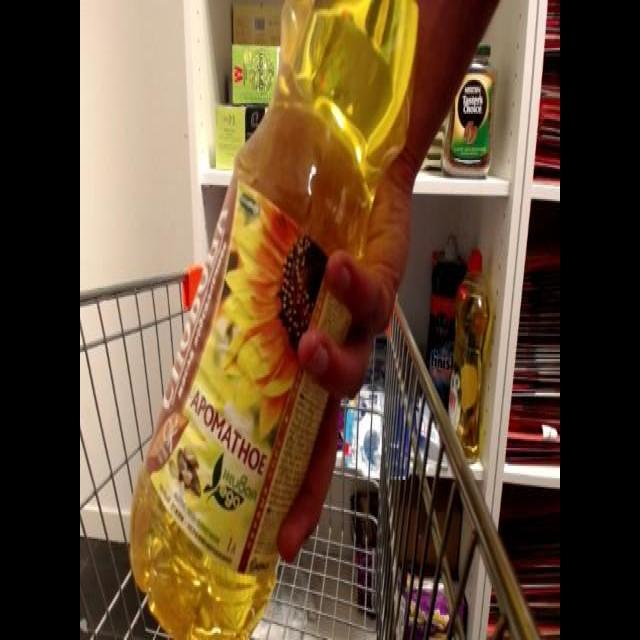Oil: (125, 1, 424, 639)
